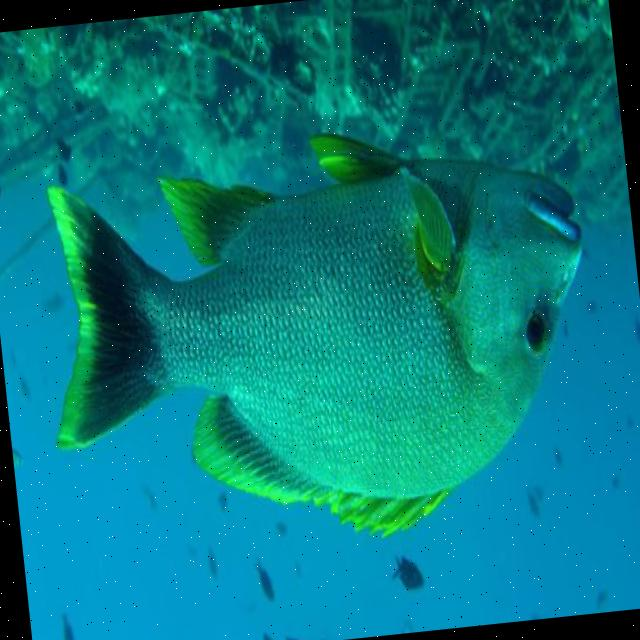ikan: (26, 106, 612, 566)
